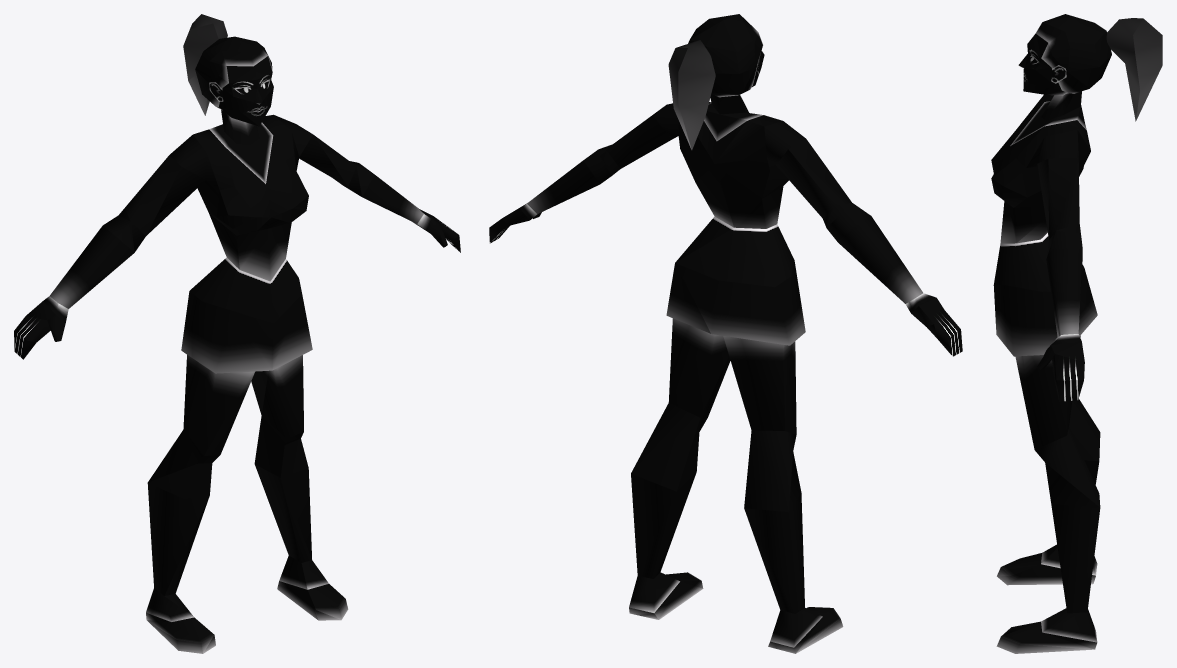
File: Audience Silhouette 2.obj
The picture shows the model from 3 angles, left to right: view 1: azimuth 30°, elevation 25°; view 2: azimuth 150°, elevation 25°; view 3: azimuth 270°, elevation 25°; orthographic projection. The views are drawn at different scales.
Parts seen in each view (by area): view 1: Mesh_0024; view 2: Mesh_0024; view 3: Mesh_0024.
Boxes of the visible parts, x1,y1,x2,y2 form: Mesh_0024: [14, 14, 460, 653]; Mesh_0024: [489, 14, 962, 653]; Mesh_0024: [991, 14, 1162, 653].
Size of the model in its own units: 1.79 by 2.24 by 0.5848.
1 material, 1 textured.
